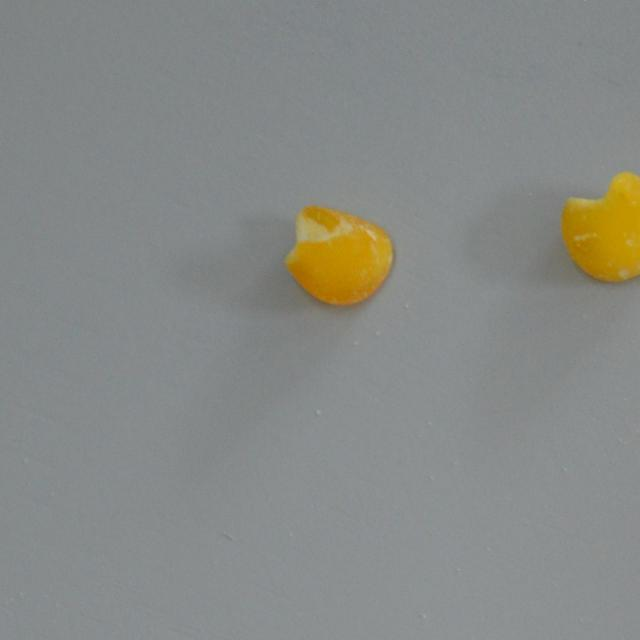dañado: (280, 199, 396, 309), (558, 168, 640, 290)
